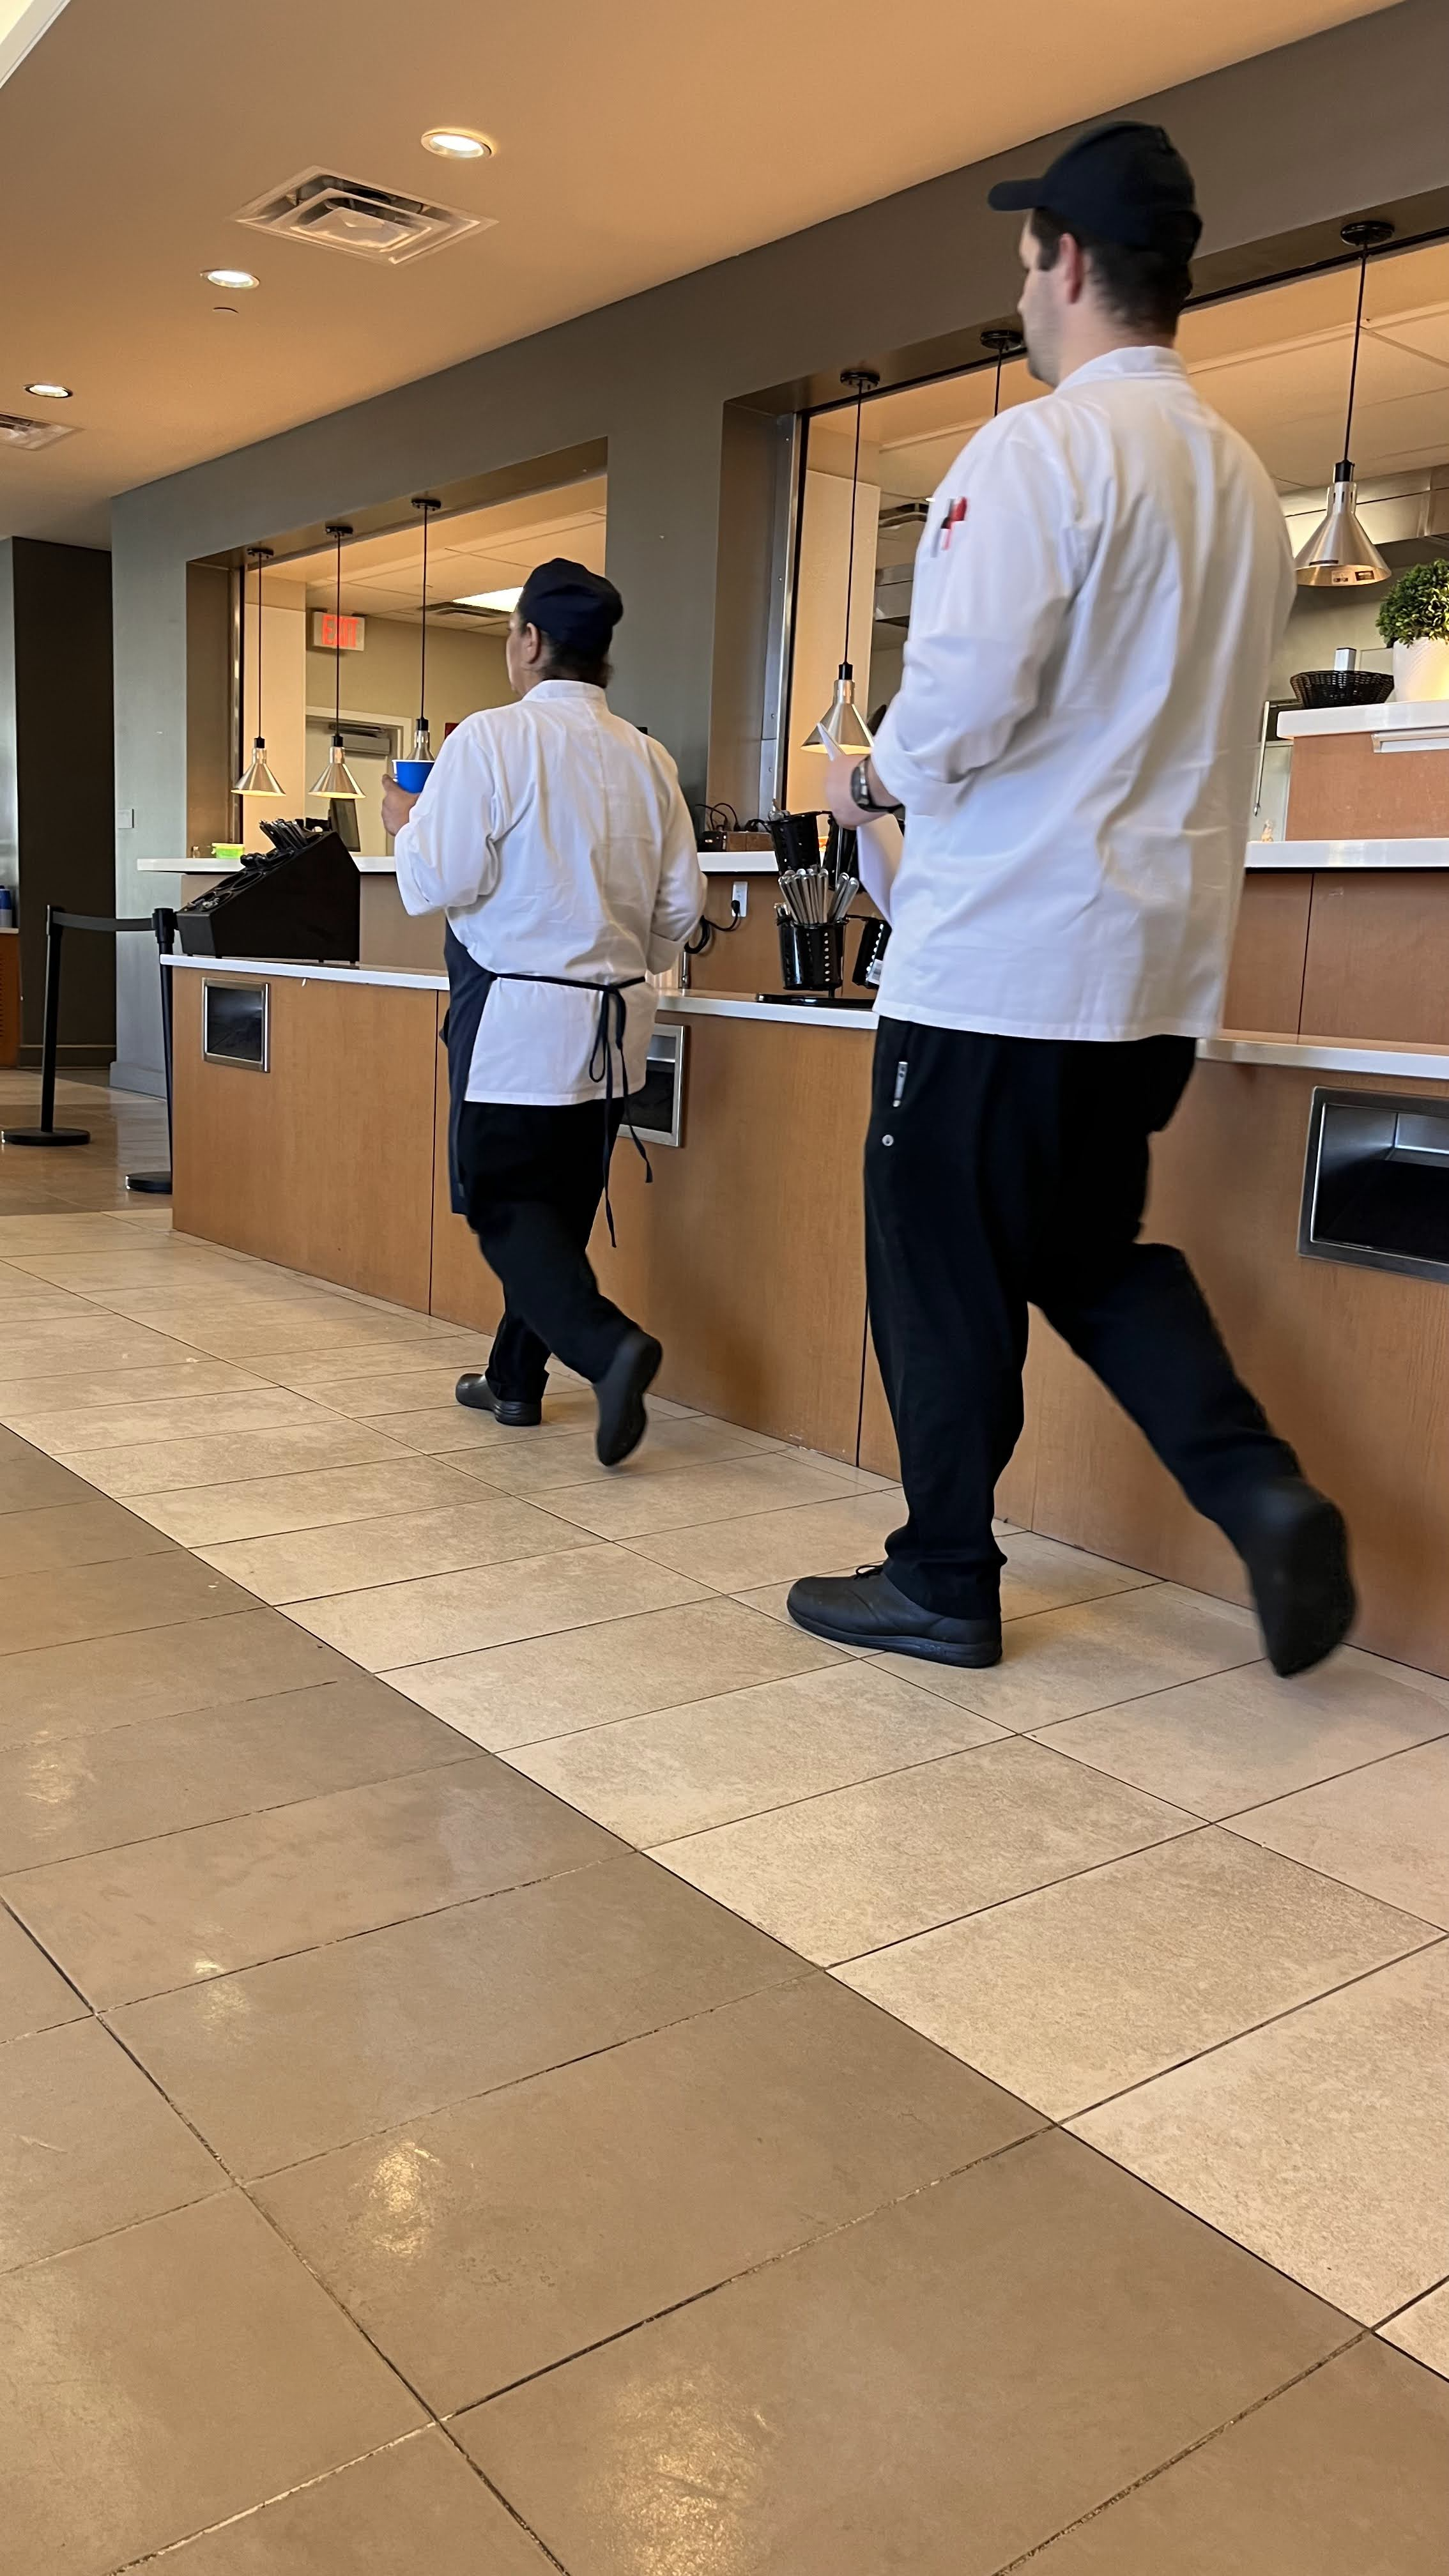Facility Operator: (324, 538, 754, 1348), (899, 101, 1260, 777)
